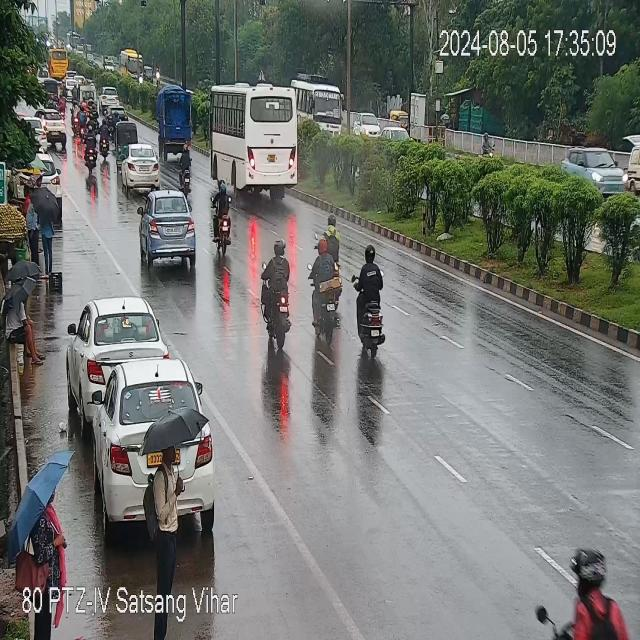2-wheelers: (309, 232, 347, 348), (352, 246, 392, 354), (260, 234, 294, 360), (325, 198, 345, 258), (216, 184, 232, 252), (74, 101, 90, 135), (86, 122, 96, 172), (180, 144, 190, 193), (100, 118, 110, 159), (59, 94, 66, 118), (114, 109, 120, 133), (72, 82, 79, 102)
auto: (115, 121, 138, 165)
bus: (208, 85, 307, 208), (304, 80, 349, 132)
car: (96, 361, 211, 480), (69, 298, 162, 409), (138, 189, 194, 265), (559, 149, 629, 197), (120, 144, 161, 191), (42, 109, 66, 149), (28, 113, 48, 153)
pedestrian: (144, 444, 188, 584), (3, 281, 49, 368), (31, 487, 66, 590), (24, 179, 62, 270)
